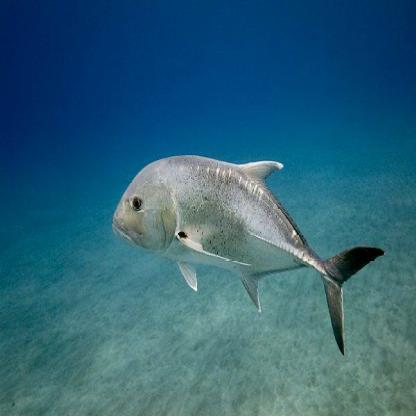jack: (107, 137, 391, 357)
